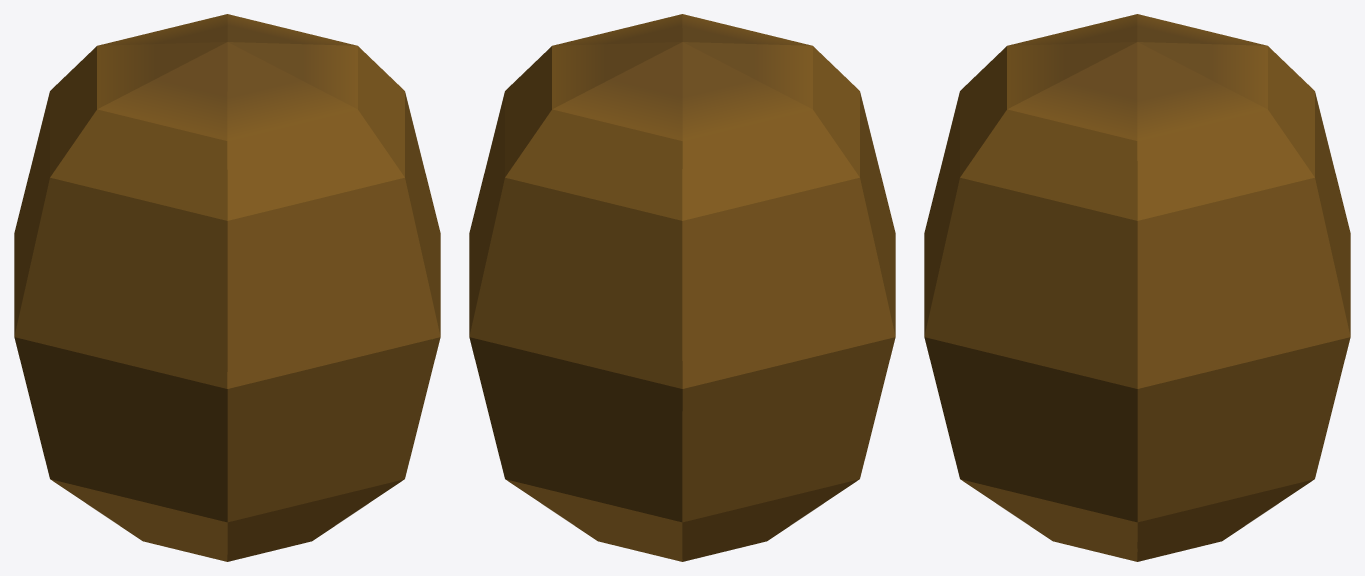
Rendered from Kiwi.fbx.
The picture shows the model from 3 angles, left to right: view 1: azimuth 30°, elevation 25°; view 2: azimuth 150°, elevation 25°; view 3: azimuth 270°, elevation 25°; orthographic projection.
Visible parts, largest first — view 1: Kiwi_All, Kiwi_Down; view 2: Kiwi_All; view 3: Kiwi_All, Kiwi_Down.
Boxes of the visible parts, x1,y1,x2,y2 form: Kiwi_All: (14,14,440,541); Kiwi_Down: (14,337,440,561); Kiwi_All: (469,14,895,561); Kiwi_All: (924,14,1350,561); Kiwi_Down: (924,337,1348,561).
Bounding box in the file's own units: 4.8 × 5.38 × 4.16.
